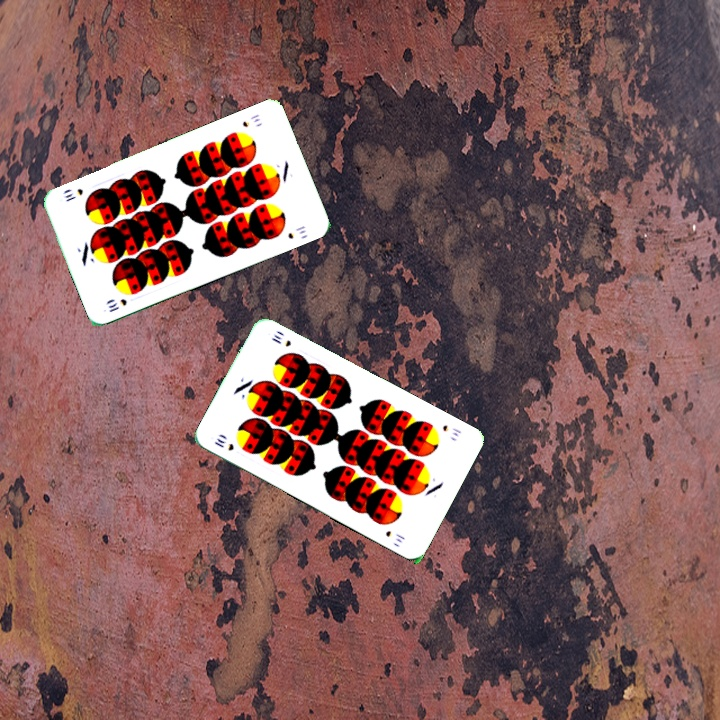S10: (104, 295, 130, 315), (210, 434, 237, 453), (238, 110, 263, 130), (438, 421, 464, 439)
